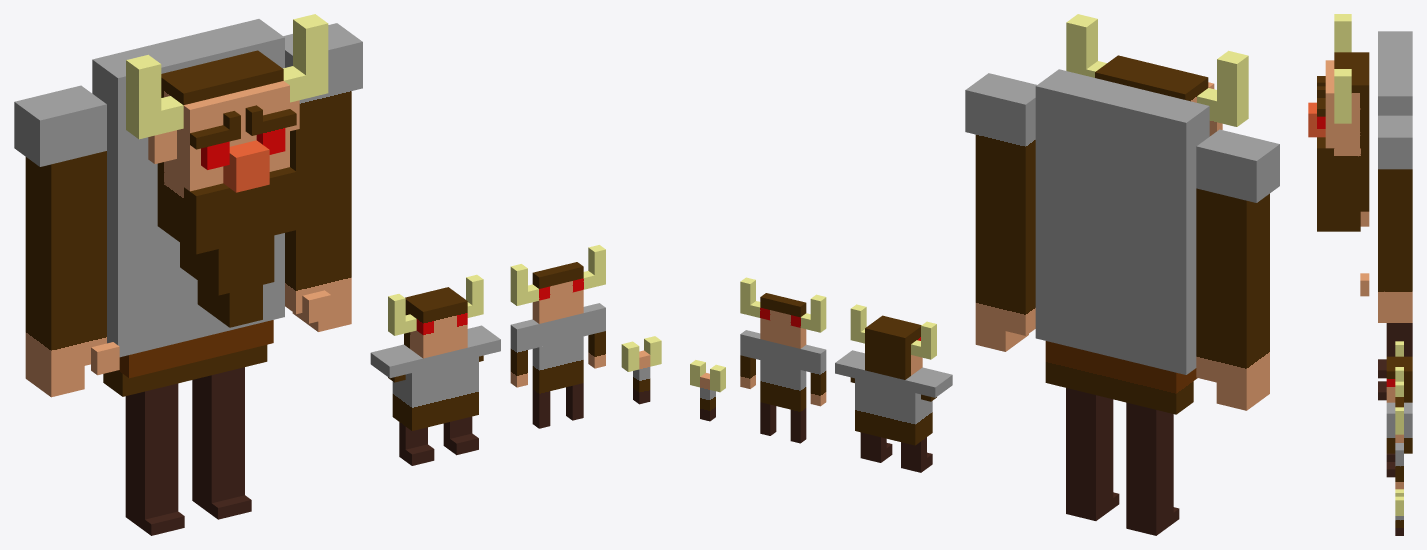
The model's file is Enemies_Trolloc_Human.glb.
3 views of the same model, side by side, from view 1: azimuth 30°, elevation 25°; view 2: azimuth 150°, elevation 25°; view 3: azimuth 270°, elevation 25° (orthographic). The views are drawn at different scales.
Parts seen in each view (by area): view 1: pl0; view 2: pl0; view 3: pl0.
Part boxes in pixels (<box>): pl0: <box>14,14,661,535</box>; pl0: <box>690,14,1279,535</box>; pl0: <box>1308,14,1412,535</box>.
Size of the model in its own units: 57 by 43 by 12.
Materials: 1 (1 with a texture image).
